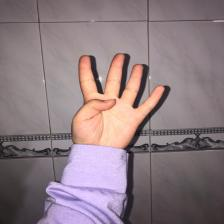four: (68, 50, 170, 154)
